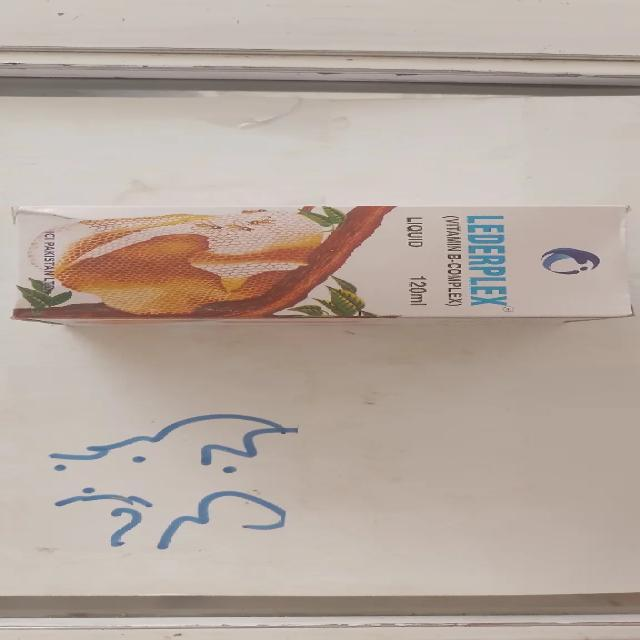drug-name: (466, 213, 510, 309)
